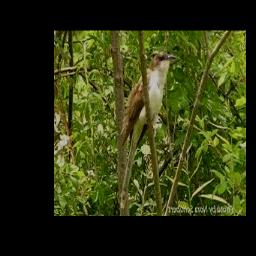Cuckoo: (120, 53, 176, 146)
